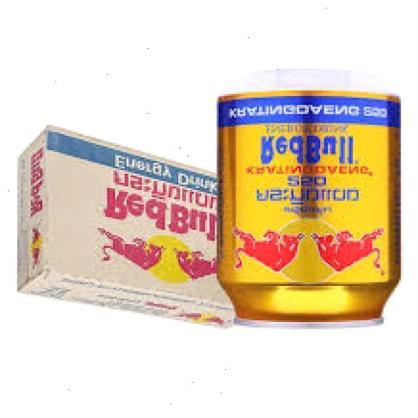can: (213, 66, 407, 332)
